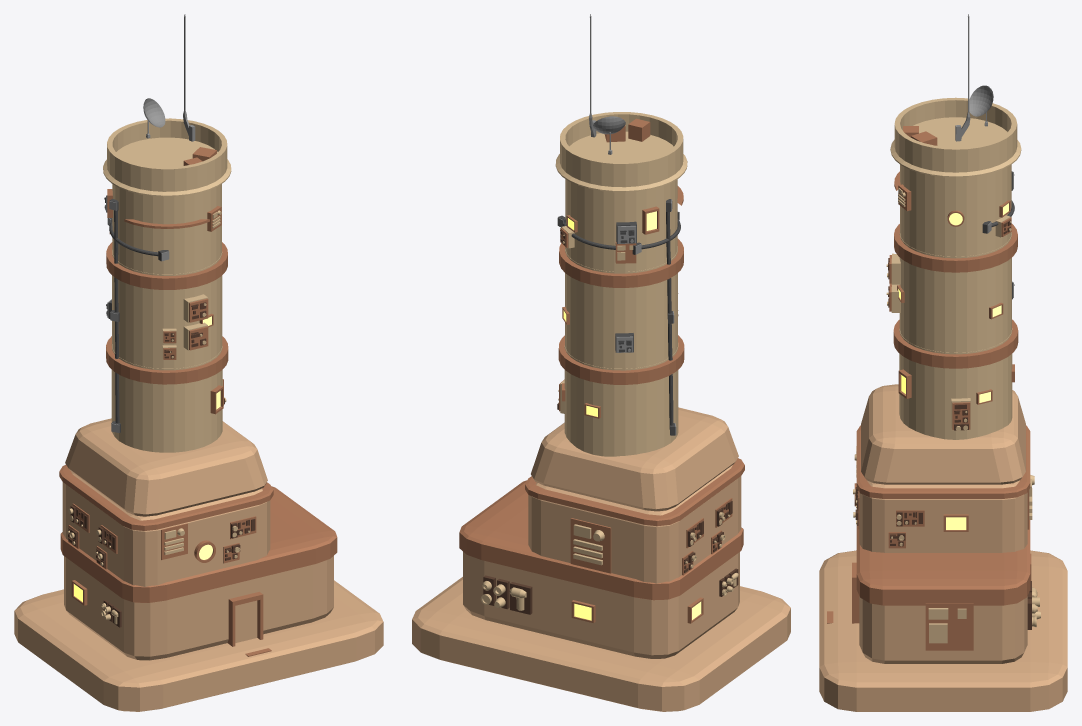
Rendered from nomad_building_39.fbx.
The picture shows the model from 3 angles, left to right: view 1: azimuth 30°, elevation 25°; view 2: azimuth 150°, elevation 25°; view 3: azimuth 270°, elevation 25°; orthographic projection. The views are drawn at different scales.
Visible parts, largest first — view 1: B39_M_Foundation_rectangular, B39_M_Blk00_rect_base, B39_M_R10_square_roof_defualt, B39_M_Blk10_base, B39_M_B00_Band_square_diameter_thich, B39_T_Crown_RoofDeck_Ringwall, B39_T_Drum2, B39_T_Drum0, B39_T_Drum1, B39_M_B10_Band_square_diameter_default, B39_T_Ring00_TowerTrim_BandTall, B39_T_Ring10_TowerTrim_BandTall (+3 smaller); view 2: B39_M_Foundation_rectangular, B39_M_Blk00_rect_base, B39_M_R10_square_roof_defualt, B39_M_Blk10_base, B39_T_Drum1, B39_M_B00_Band_square_diameter_thich, B39_T_Drum0, B39_T_Crown_RoofDeck_Ringwall, B39_T_Drum2, B39_M_B10_Band_square_diameter_default, B39_T_Ring00_TowerTrim_BandTall, B39_T_Ring10_TowerTrim_BandTall (+2 smaller); view 3: B39_M_Foundation_rectangular, B39_M_R10_square_roof_defualt, B39_M_B00_Band_square_diameter_thich, B39_T_Drum1, B39_M_Blk10_base, B39_T_Crown_RoofDeck_Ringwall, B39_T_Drum2, B39_M_Blk00_rect_base, B39_T_Drum0, B39_M_B10_Band_square_diameter_default, B39_T_Ring00_TowerTrim_BandTall, B39_T_Ring10_TowerTrim_BandTall (+3 smaller).
Boxes of the visible parts, <box> form: B39_M_Foundation_rectangular: <box>14,580,383,711</box>; B39_M_Blk00_rect_base: <box>64,556,333,660</box>; B39_M_R10_square_roof_defualt: <box>65,418,267,516</box>; B39_M_Blk10_base: <box>62,471,270,586</box>; B39_M_B00_Band_square_diameter_thich: <box>60,486,337,602</box>; B39_T_Crown_RoofDeck_Ringwall: <box>103,118,231,196</box>; B39_T_Drum2: <box>112,184,221,274</box>; B39_T_Drum0: <box>111,344,222,452</box>; B39_T_Drum1: <box>112,250,222,368</box>; B39_M_B10_Band_square_diameter_default: <box>59,465,273,530</box>; B39_T_Ring00_TowerTrim_BandTall: <box>106,336,228,384</box>; B39_T_Ring10_TowerTrim_BandTall: <box>106,242,227,289</box>; B39_M_Foundation_rectangular: <box>412,577,790,711</box>; B39_M_Blk00_rect_base: <box>463,552,739,658</box>; B39_M_R10_square_roof_defualt: <box>531,407,738,511</box>; B39_M_Blk10_base: <box>528,465,741,583</box>; B39_T_Drum1: <box>565,246,677,368</box>; B39_M_B00_Band_square_diameter_thich: <box>459,480,743,600</box>; B39_T_Drum0: <box>564,343,678,456</box>; B39_T_Crown_RoofDeck_Ringwall: <box>555,112,687,192</box>; B39_T_Drum2: <box>565,179,677,271</box>; B39_M_B10_Band_square_diameter_default: <box>525,458,744,526</box>; B39_T_Ring00_TowerTrim_BandTall: <box>558,335,684,384</box>; B39_T_Ring10_TowerTrim_BandTall: <box>559,238,683,287</box>; B39_M_Foundation_rectangular: <box>819,550,1067,711</box>; B39_M_R10_square_roof_defualt: <box>861,384,1025,484</box>; B39_M_B00_Band_square_diameter_thich: <box>856,508,1030,605</box>; B39_T_Drum1: <box>899,232,1011,352</box>; B39_M_Blk10_base: <box>859,480,1027,552</box>; B39_T_Crown_RoofDeck_Ringwall: <box>890,97,1021,177</box>; B39_T_Drum2: <box>900,164,1011,256</box>; B39_M_Blk00_rect_base: <box>859,596,1027,663</box>; B39_T_Drum0: <box>899,328,1012,439</box>; B39_M_B10_Band_square_diameter_default: <box>856,425,1030,498</box>; B39_T_Ring00_TowerTrim_BandTall: <box>893,319,1018,368</box>; B39_T_Ring10_TowerTrim_BandTall: <box>894,224,1017,272</box>.
Size of the model in its own units: 384 by 827 by 294.
